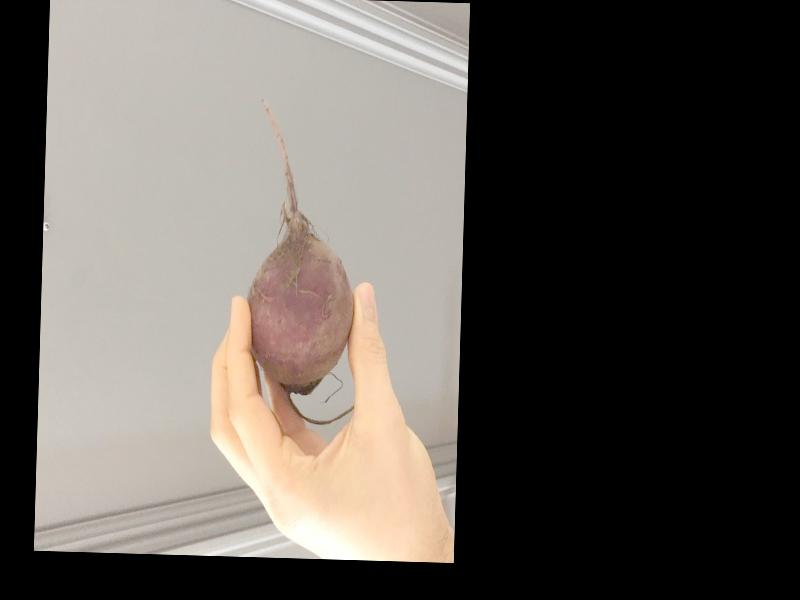Beet: (246, 92, 362, 424)
